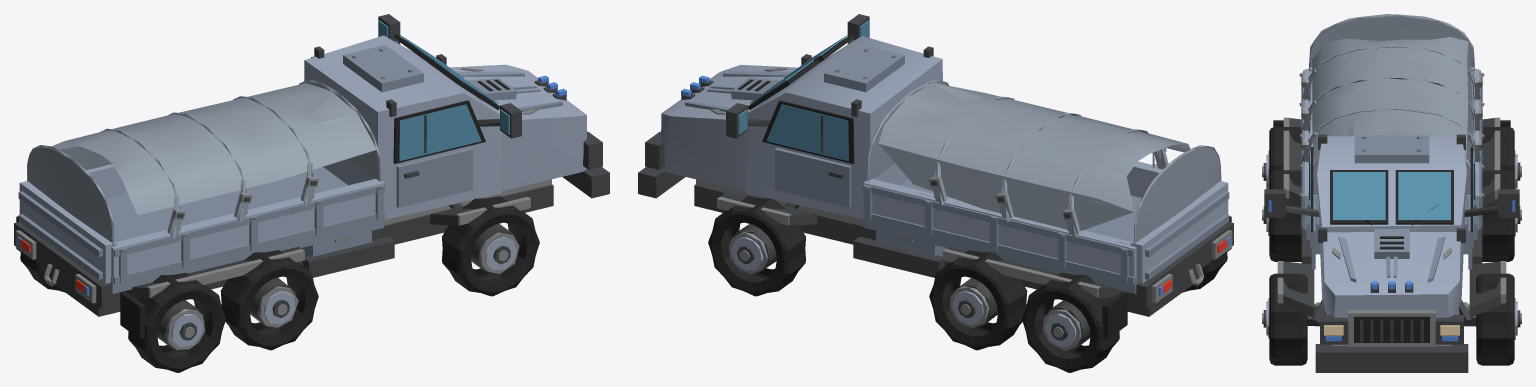
The model's file is mcv.glb.
The picture shows the model from 3 angles, left to right: view 1: azimuth 30°, elevation 25°; view 2: azimuth 150°, elevation 25°; view 3: azimuth 270°, elevation 25°; orthographic projection. The views are drawn at different scales.
Visible parts, largest first — view 1: Hull, WheelRR1, WheelFR, WheelRR2; view 2: Hull, WheelRL1, WheelFL, WheelRL2; view 3: Hull, WheelFL, WheelFR, WheelRR1, WheelRL1, WheelRL2, WheelRR2.
Part boxes in pixels (x1,y1,x2,y2): Hull: (14,14,609,339); WheelRR1: (220,250,318,350); WheelFR: (442,196,539,296); WheelRR2: (128,273,225,372); Hull: (638,14,1233,339); WheelRL1: (929,250,1027,350); WheelFL: (708,196,805,296); WheelRL2: (1022,273,1119,372); Hull: (1264,14,1519,372); WheelFL: (1476,273,1521,365); WheelFR: (1262,273,1307,365); WheelRR1: (1262,170,1301,261); WheelRL1: (1482,170,1521,261); WheelRL2: (1482,126,1521,189); WheelRR2: (1262,126,1301,189).
Bounding box in the file's own units: 9.68 × 3.55 × 4.34.
